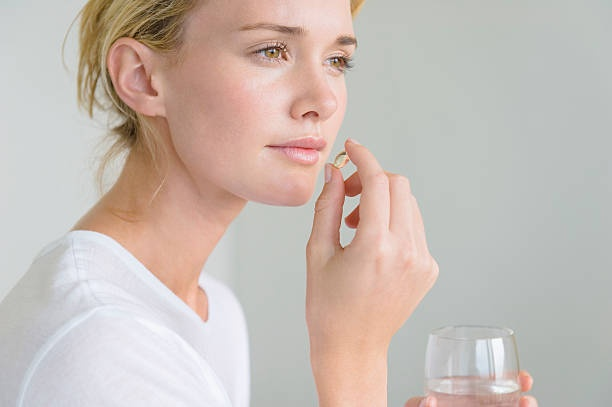pills: (326, 144, 355, 169)
